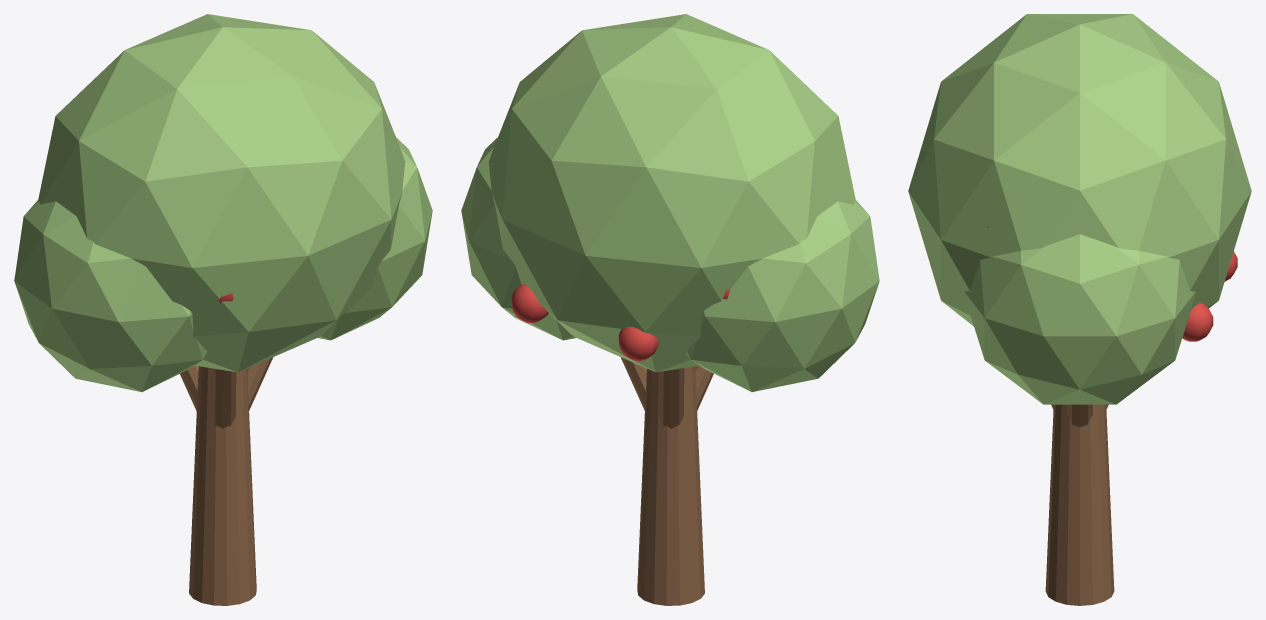
The model's file is apple-tree.glb.
3 views of the same model, side by side, from view 1: azimuth 30°, elevation 25°; view 2: azimuth 150°, elevation 25°; view 3: azimuth 270°, elevation 25° (orthographic).
Visible parts, largest first — view 1: apple-tree; view 2: apple-tree; view 3: apple-tree.
Part boxes in pixels (x1,y1,x2,y2): apple-tree: (14,14,432,605); apple-tree: (461,14,879,605); apple-tree: (908,14,1251,605).
Size of the model in its own units: 1.8 by 2.55 by 1.4.
